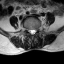CCS_normal: (31, 25, 33, 37)
LFS_normal: (36, 25, 38, 33)
LLS_normal: (33, 26, 36, 35)
RFS_normal: (26, 25, 29, 34)
RLS_normal: (29, 26, 31, 35)
